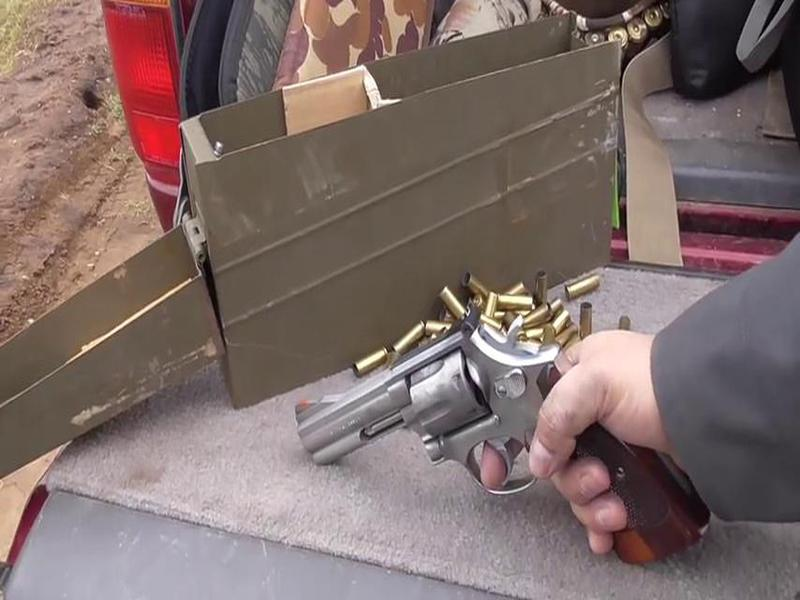Revolver: (285, 312, 635, 562)
